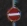No entry: (5, 5, 22, 21)
